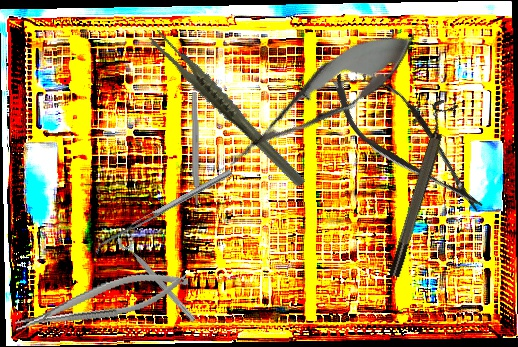Fixation Ring: (378, 97, 459, 279), (114, 229, 204, 325)
Micro Scissor: (212, 11, 428, 187), (316, 52, 502, 231)
Needle Holder: (10, 262, 192, 340)
Scalpel Handle: (191, 91, 200, 206)
Spatula Surgical: (92, 169, 236, 256)
Tissue Forceps: (146, 7, 308, 211)
